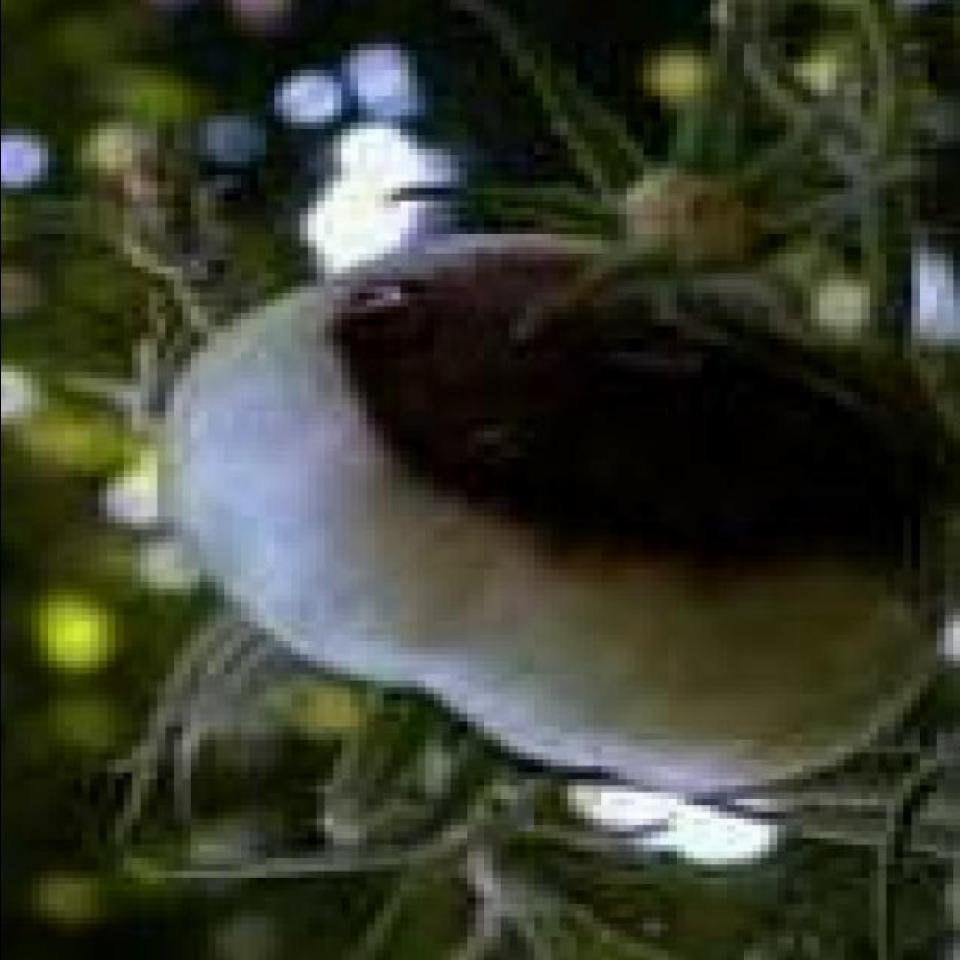Blossom_end_rot: (312, 238, 914, 586)
